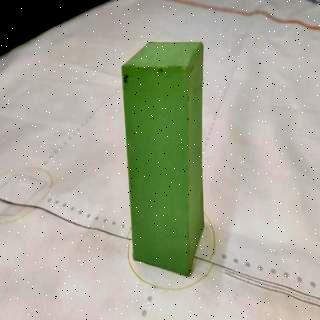greenbox: (122, 40, 206, 275)
